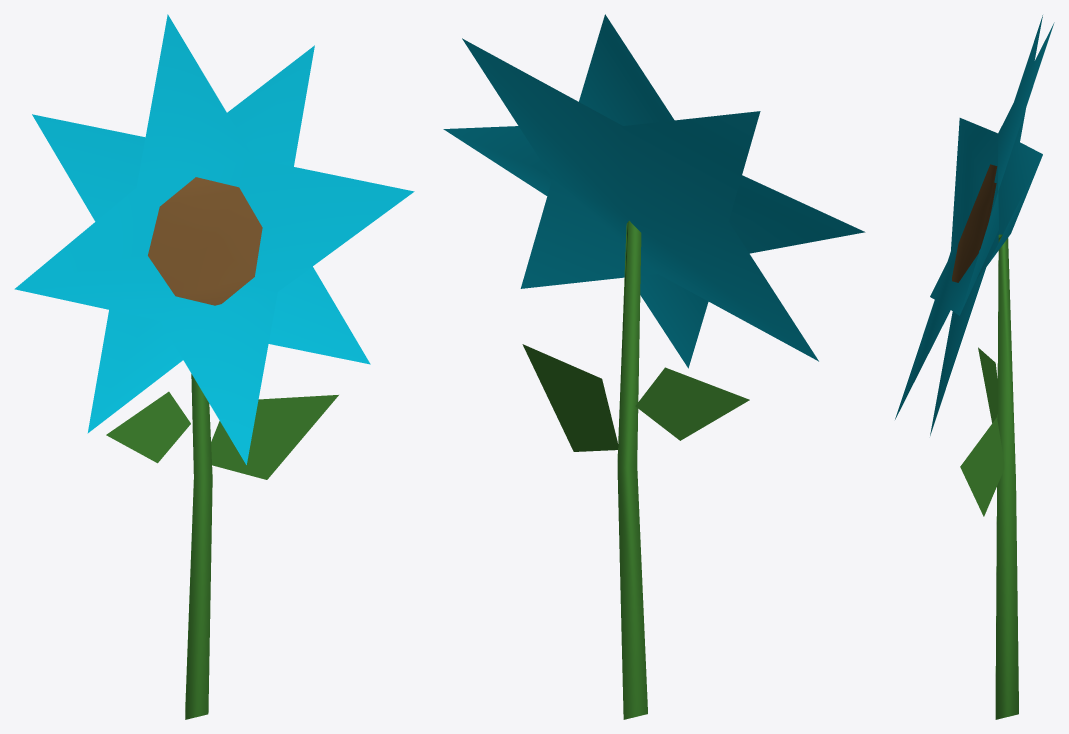
The model's file is Flower.glb.
3 views of the same model, side by side, from view 1: azimuth 30°, elevation 25°; view 2: azimuth 150°, elevation 25°; view 3: azimuth 270°, elevation 25° (orthographic). The views are drawn at different scales.
Parts seen in each view (by area): view 1: Cylinder; view 2: Cylinder; view 3: Cylinder.
Part boxes in pixels (x1,y1,x2,y2): Cylinder: (14, 14, 414, 719); Cylinder: (443, 14, 865, 719); Cylinder: (895, 15, 1054, 719).
Size of the model in its own units: 0.6055 by 0.9851 by 0.2068.
